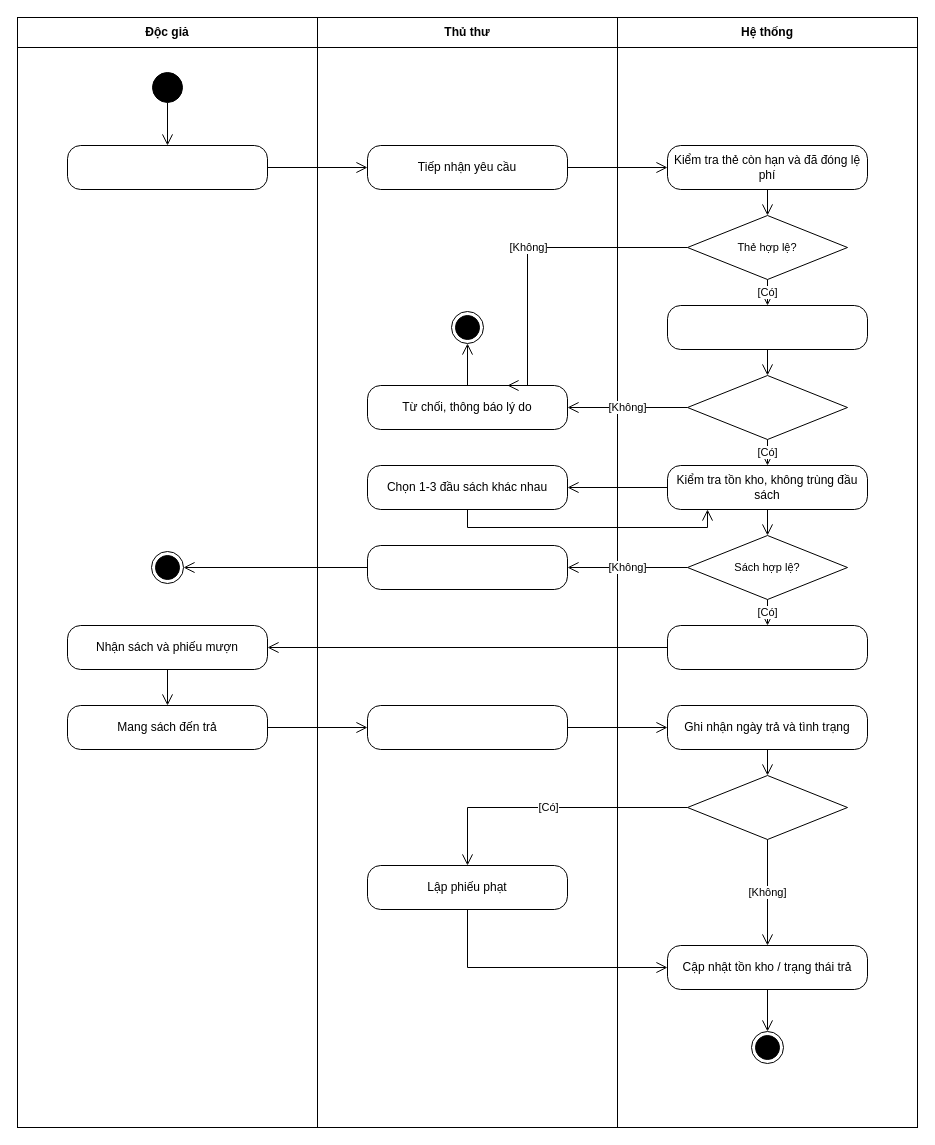
The diagram is 935 pixels wide and 1145 high, and some of its shapes have lost their labels. Here are the shapes that lost their labels. From the top down, the centre of each, then its label:
(x=167, y=167): Xuất trình thẻ và thông tin sách
(x=767, y=327): Kiểm tra sách quá hạn và tổng số đang mượn
(x=767, y=407): Đủ điều kiện?
(x=467, y=567): Thông báo hết sách / trùng đầu sách
(x=767, y=647): Lưu phiếu mượn, giảm số lượng hiện có
(x=467, y=727): Kiểm tra tình trạng sách
(x=767, y=807): Trễ / mất / hư?
